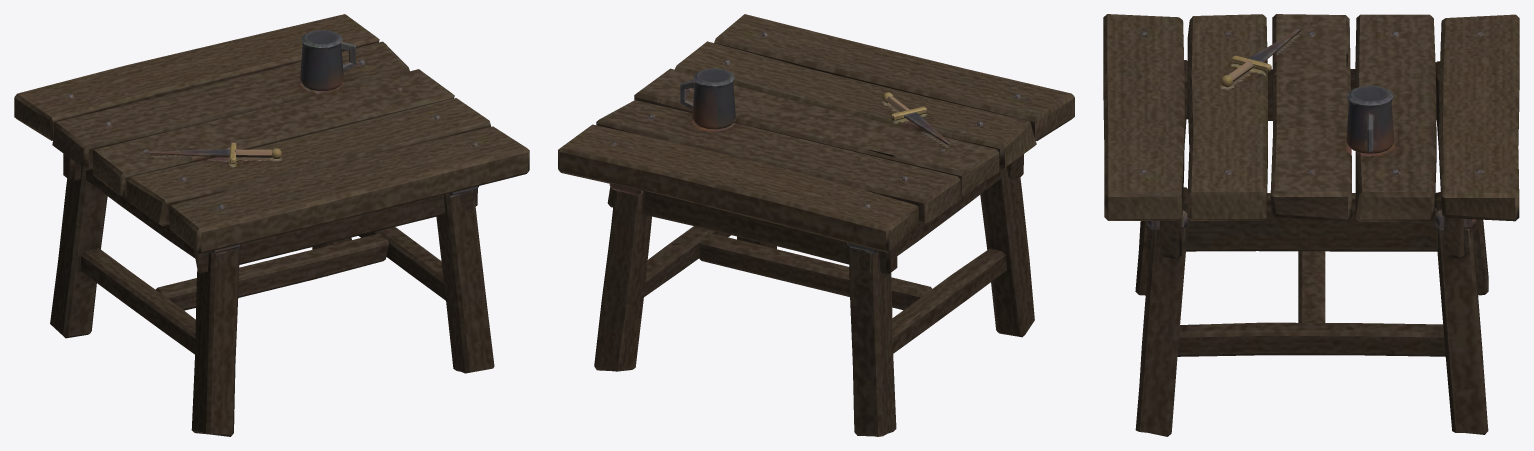
The model's file is table.glb.
3 views of the same model, side by side, from view 1: azimuth 30°, elevation 25°; view 2: azimuth 150°, elevation 25°; view 3: azimuth 270°, elevation 25° (orthographic). The views are drawn at different scales.
Parts seen in each view (by area): view 1: table; view 2: table; view 3: table.
Boxes of the visible parts, bbox=[...] form: table: bbox=[14, 14, 529, 436]; table: bbox=[558, 14, 1074, 436]; table: bbox=[1103, 14, 1519, 436].
Size of the model in its own units: 0.8838 by 0.7001 by 0.8541.
1 material, 1 textured.
